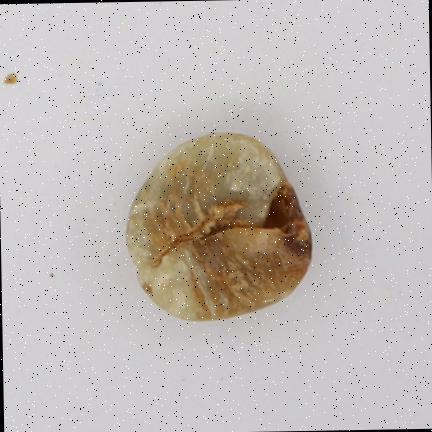broken: (127, 133, 310, 319)
